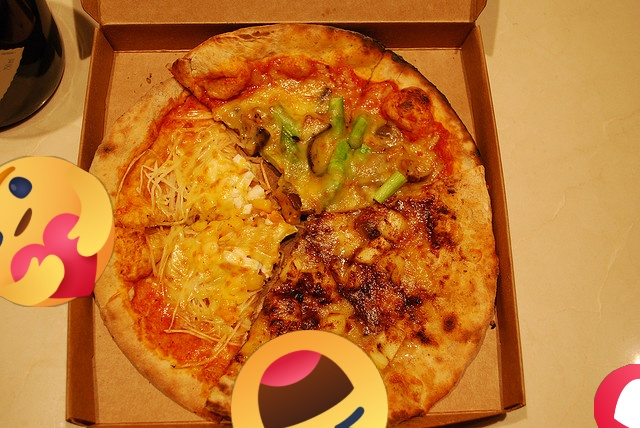care: (0, 156, 115, 307)
haha: (231, 330, 388, 428)
love: (594, 364, 640, 428)
